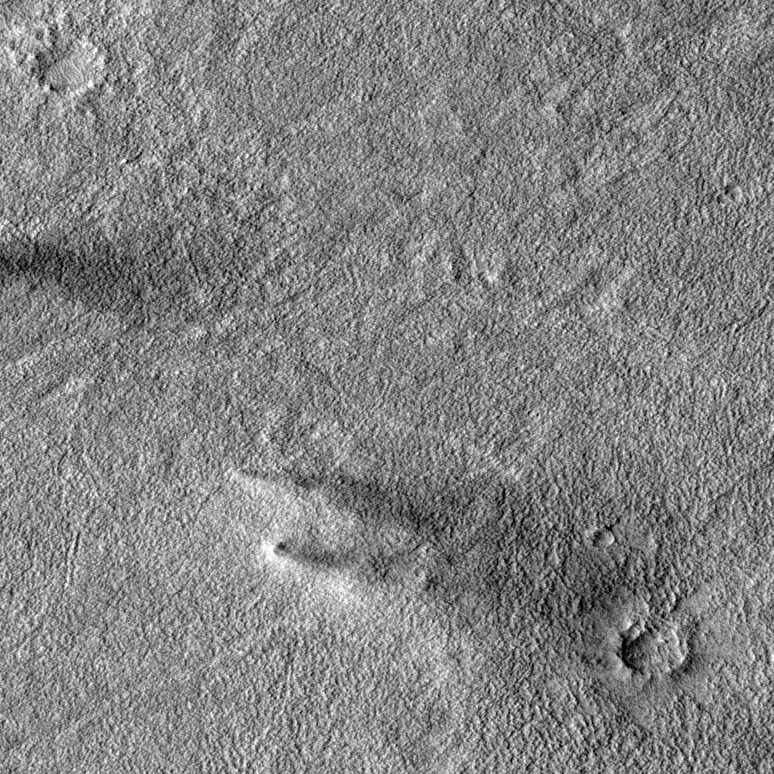dust_devil: (223, 465, 537, 555), (258, 537, 484, 634)
